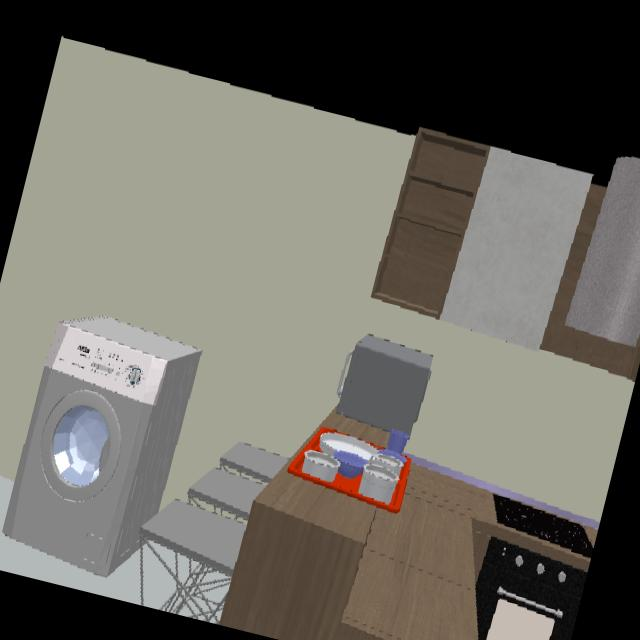cabinet: (372, 131, 640, 378)
chair: (141, 443, 288, 622)
microwave: (336, 335, 432, 434)
oven: (475, 536, 587, 640)
stove: (493, 494, 593, 556)
